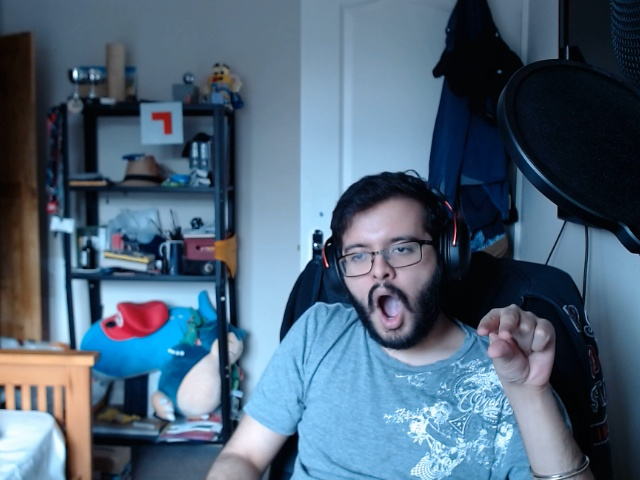No: (472, 290, 577, 395)
